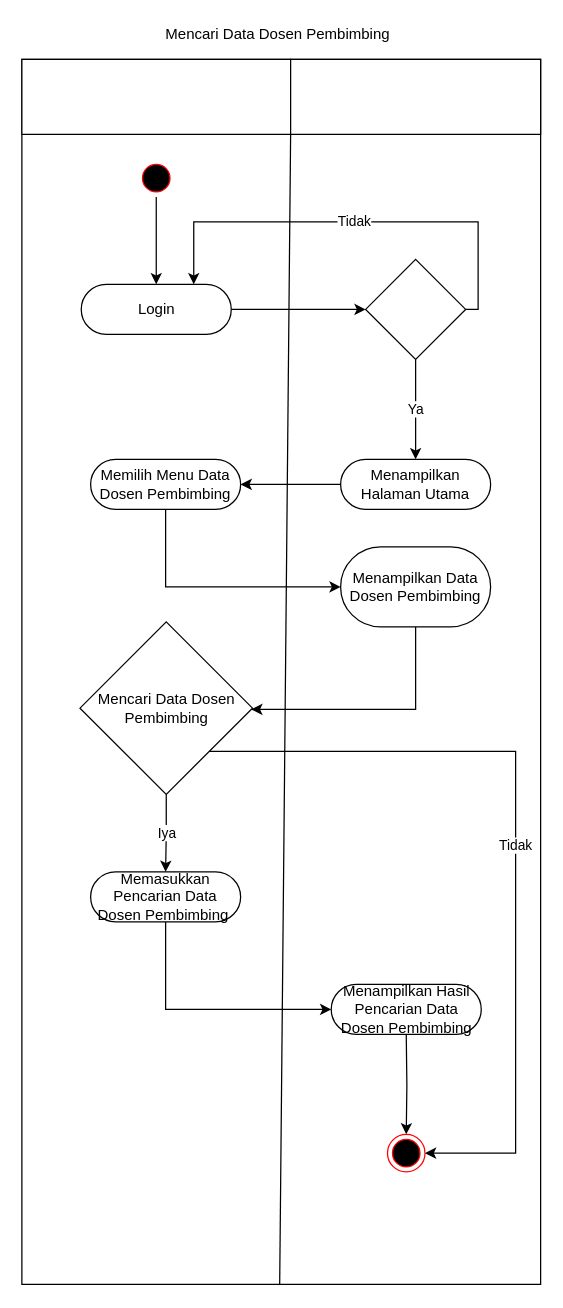
Some shapes in this 563 by 1308 pixel diagram are drawn without their labels. Here are the shapes that lost their labels. From the top down, the centre of each, then its label:
At (156,96): "Mahasiswa".
At (415,96): "Sistem".
At (415,308): "Cek Login".
